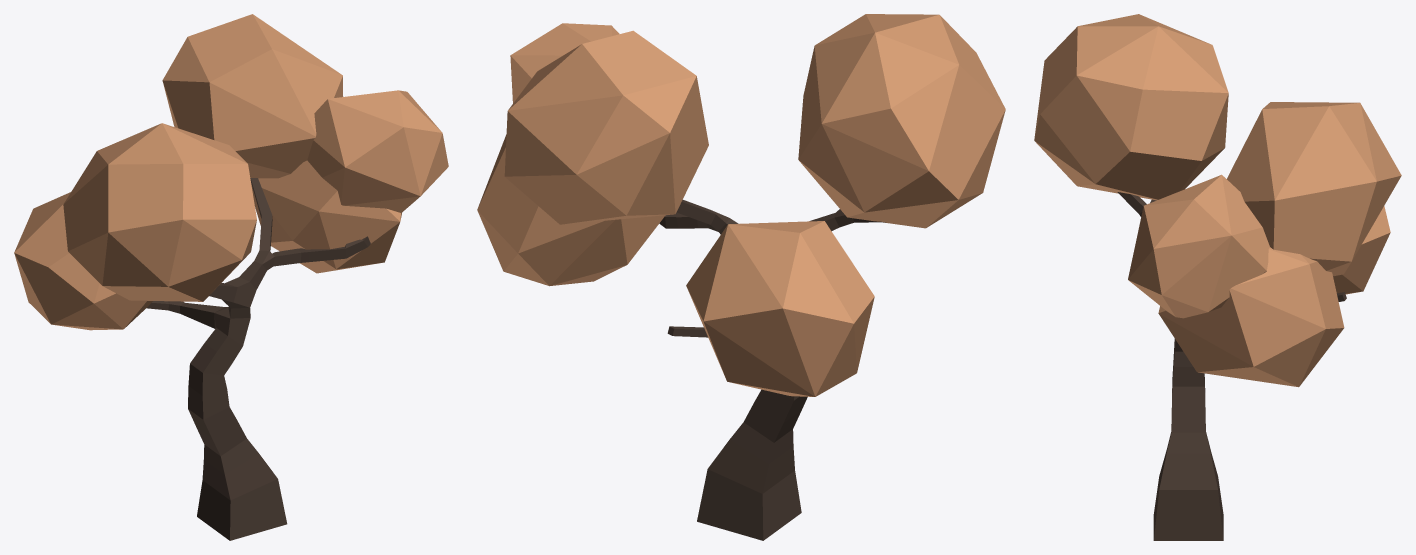
Rendered from orangetree_1.fbx.
3 views of the same model, side by side, from view 1: azimuth 30°, elevation 25°; view 2: azimuth 150°, elevation 25°; view 3: azimuth 270°, elevation 25° (orthographic). The views are drawn at different scales.
Visible parts, largest first — view 1: orangetree_1; view 2: orangetree_1; view 3: orangetree_1.
Part boxes in pixels (x1,y1,x2,y2): orangetree_1: (14,14,448,540); orangetree_1: (477,14,1005,540); orangetree_1: (1034,14,1401,540).
Size of the model in its own units: 1292 by 1463 by 1053.
